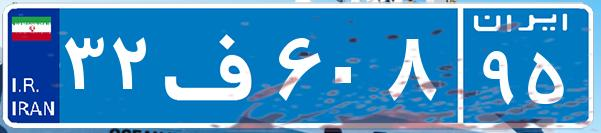0: (330, 28, 385, 110)
2: (110, 28, 158, 105)
3: (57, 26, 110, 107)
5: (525, 38, 570, 115)
6: (273, 28, 330, 110)
8: (385, 28, 445, 110)
9: (475, 38, 525, 113)
ف: (158, 15, 273, 115)
